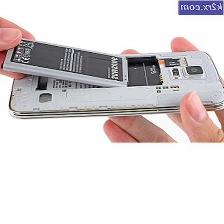phone: (0, 46, 224, 120)
